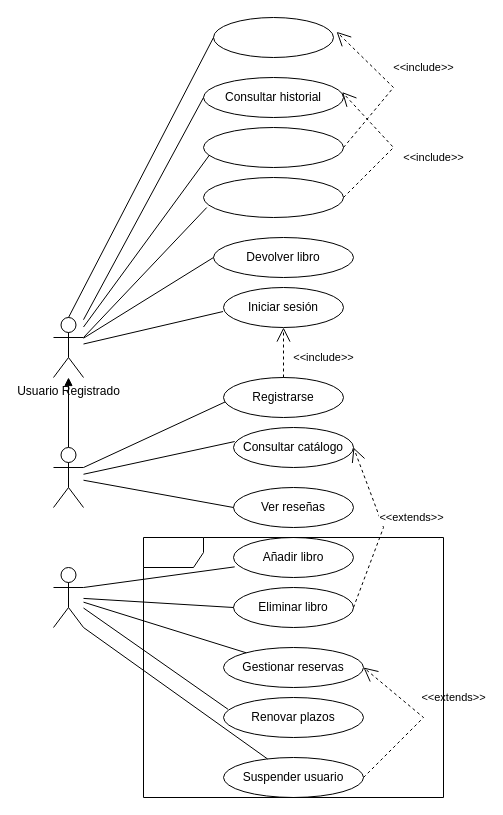
Image size: 503x815. Some labels were removed from this diagram. The shapes that lost their labels are listed below. From the top down, each one's centre as x and y in pixels, then its label:
point 273,37: Buscar libros
point 273,147: Realizar préstamo
point 273,197: Renovar préstamo
point 68,477: Invitado
point 68,597: Biblotecario
point 293,667: Sistema
